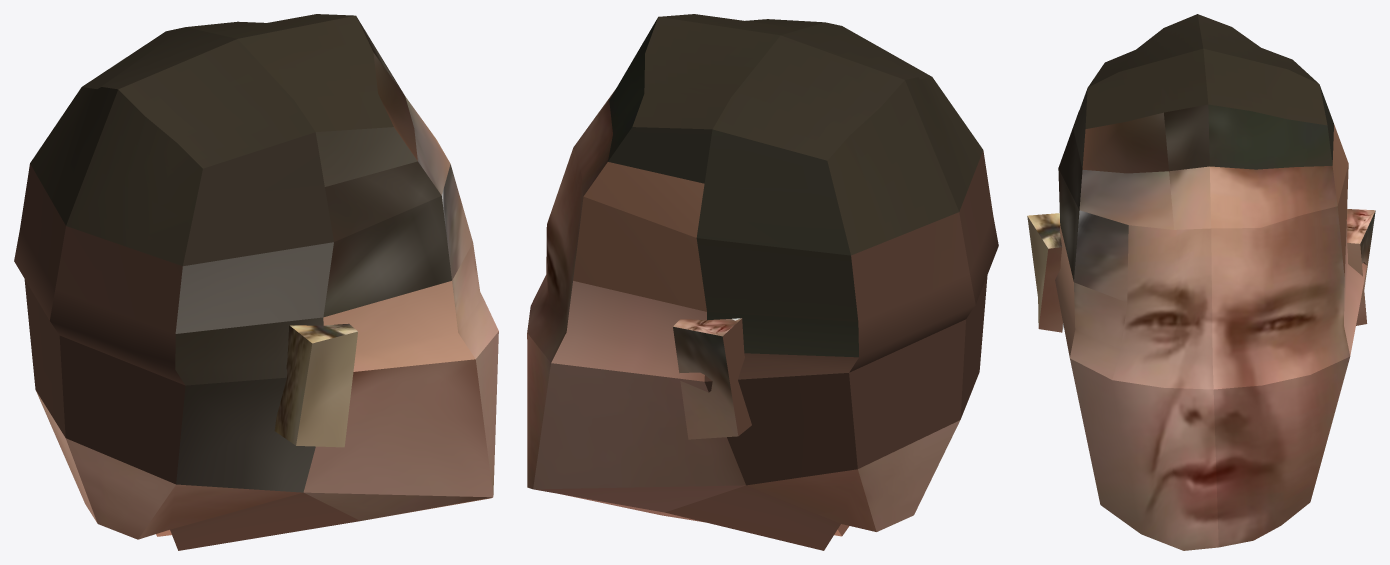
Rendered from kalal2.fbx.
3 views of the same model, side by side, from view 1: azimuth 30°, elevation 25°; view 2: azimuth 150°, elevation 25°; view 3: azimuth 270°, elevation 25° (orthographic). The views are drawn at different scales.
Parts seen in each view (by area): view 1: Cylinder; view 2: Cylinder; view 3: Cylinder.
Boxes of the visible parts, left/top/right/bottom form: Cylinder: left=14, top=14, right=498, bottom=550; Cylinder: left=527, top=14, right=998, bottom=550; Cylinder: left=1027, top=14, right=1375, bottom=550.
Bounding box in the file's own units: 92.87 × 103 × 78.37.
Materials: 1 (1 with a texture image).
